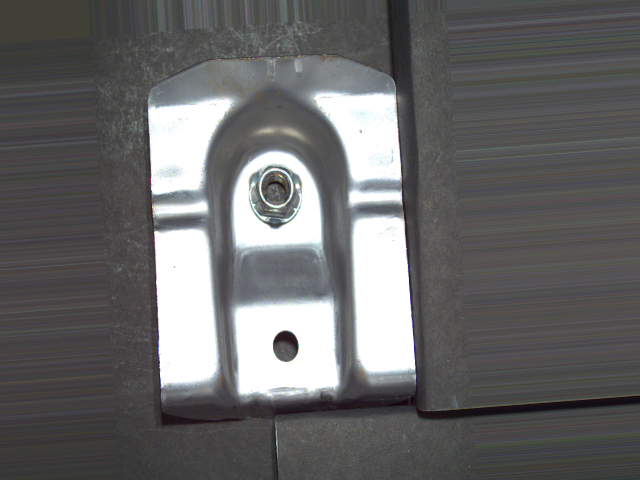good: (245, 163, 305, 232)
